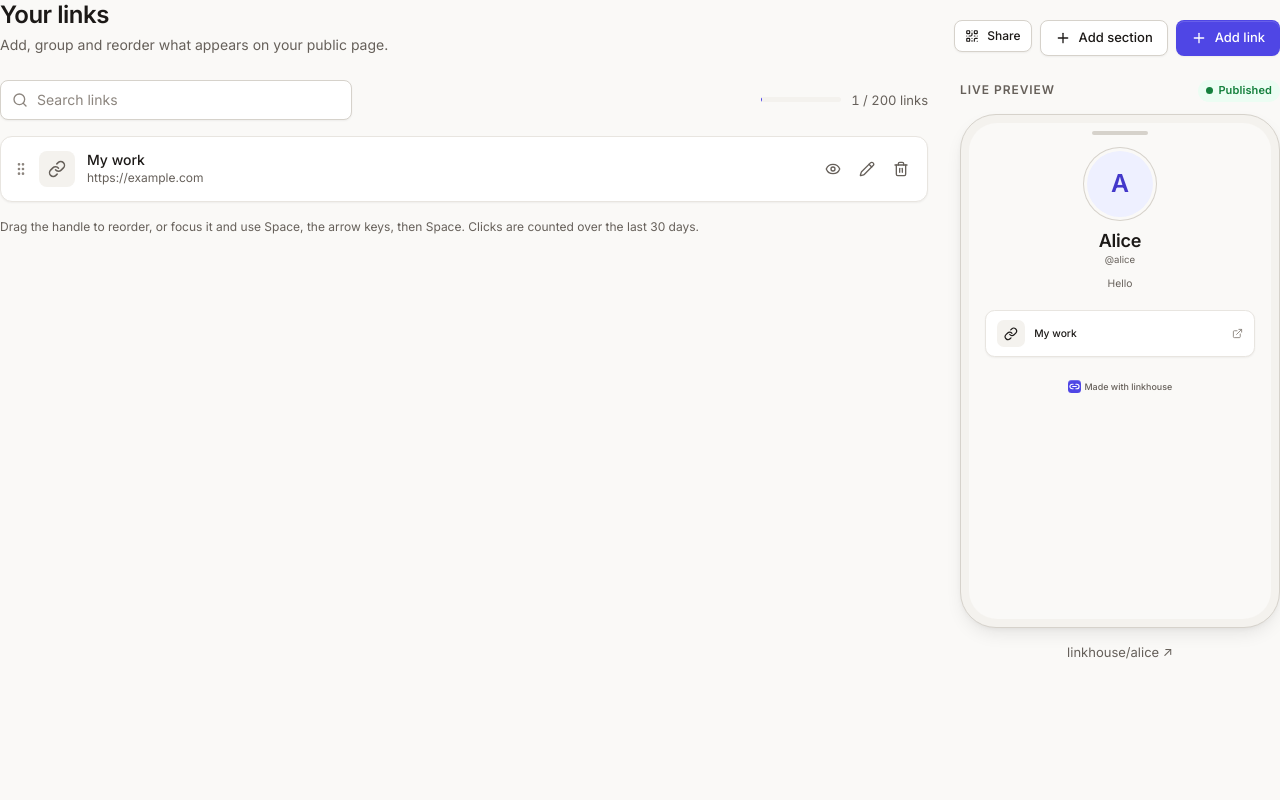
Test: opens and cancels link editing without modifying data
Step 1. Click the button named "Edit My work" → (867, 169), box [851,153,883,185]
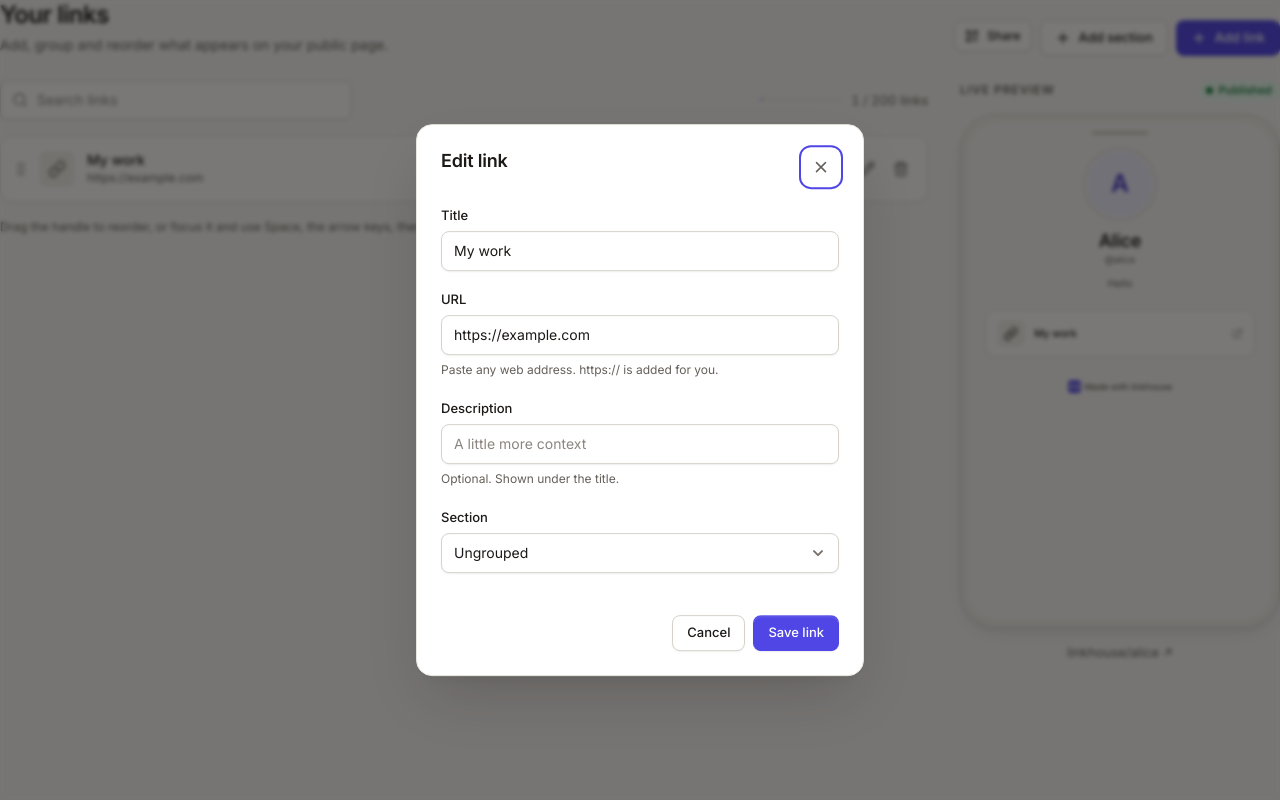
Expected: the field labelled "Title" holds "My work", [441,231,839,271]
Step 2. Click the button "Cancel" → (709, 633), box [672,615,746,651]
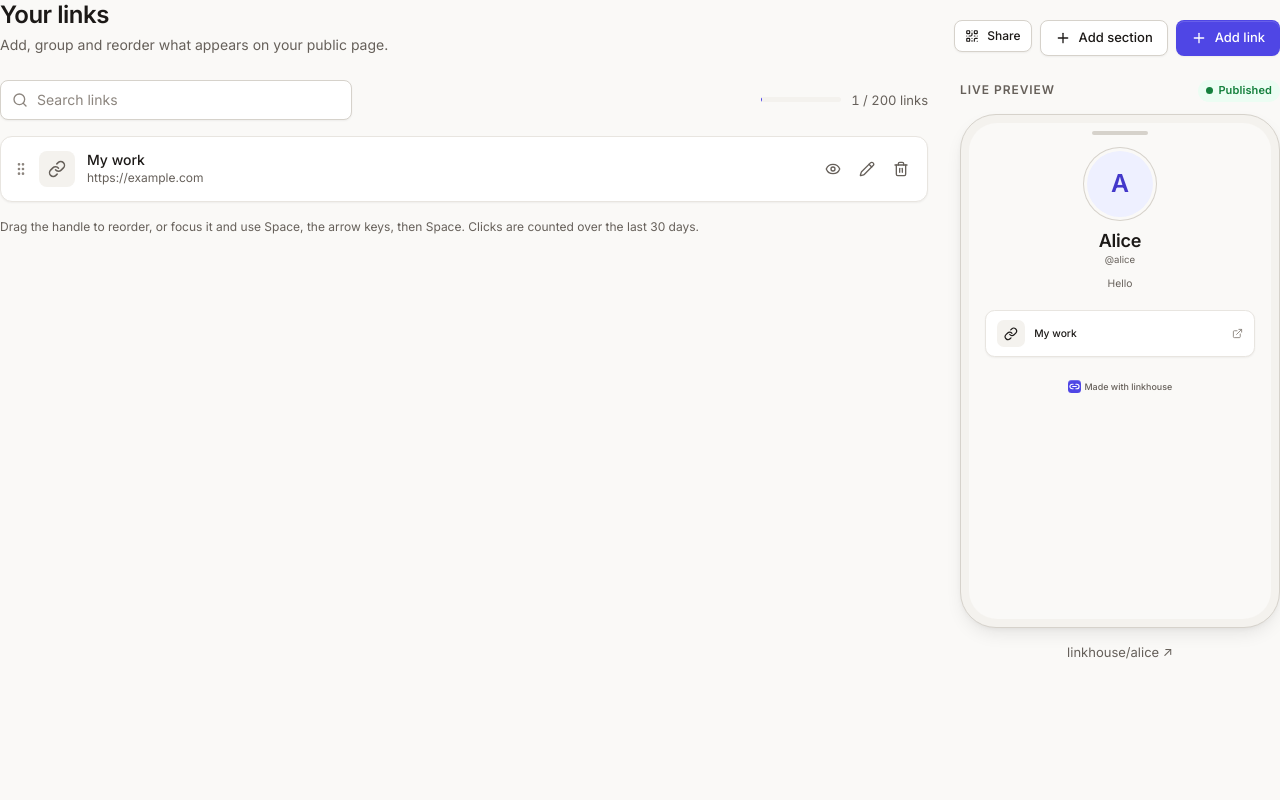
Expected: the dialog is gone
